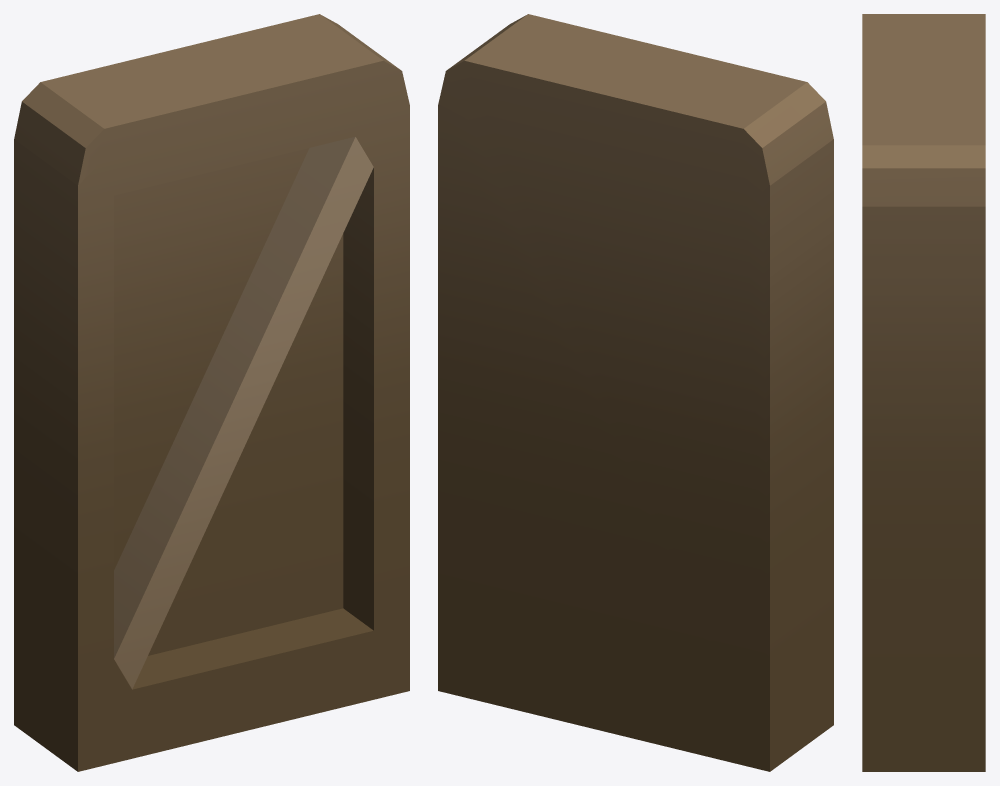
The model's file is House_Barn_GateDoor.fbx.
3 renders of one model, left to right at view 1: azimuth 30°, elevation 25°; view 2: azimuth 150°, elevation 25°; view 3: azimuth 270°, elevation 25°, orthographic. The views are drawn at different scales.
Visible parts, largest first — view 1: House_Barn_GateDoor; view 2: House_Barn_GateDoor; view 3: House_Barn_GateDoor.
Boxes of the visible parts, <box> form: House_Barn_GateDoor: <box>14,14,409,771</box>; House_Barn_GateDoor: <box>438,14,833,771</box>; House_Barn_GateDoor: <box>862,14,985,771</box>.
Bounding box in the file's own units: 0.6 × 1.1 × 0.2.
1 material, 1 textured.
